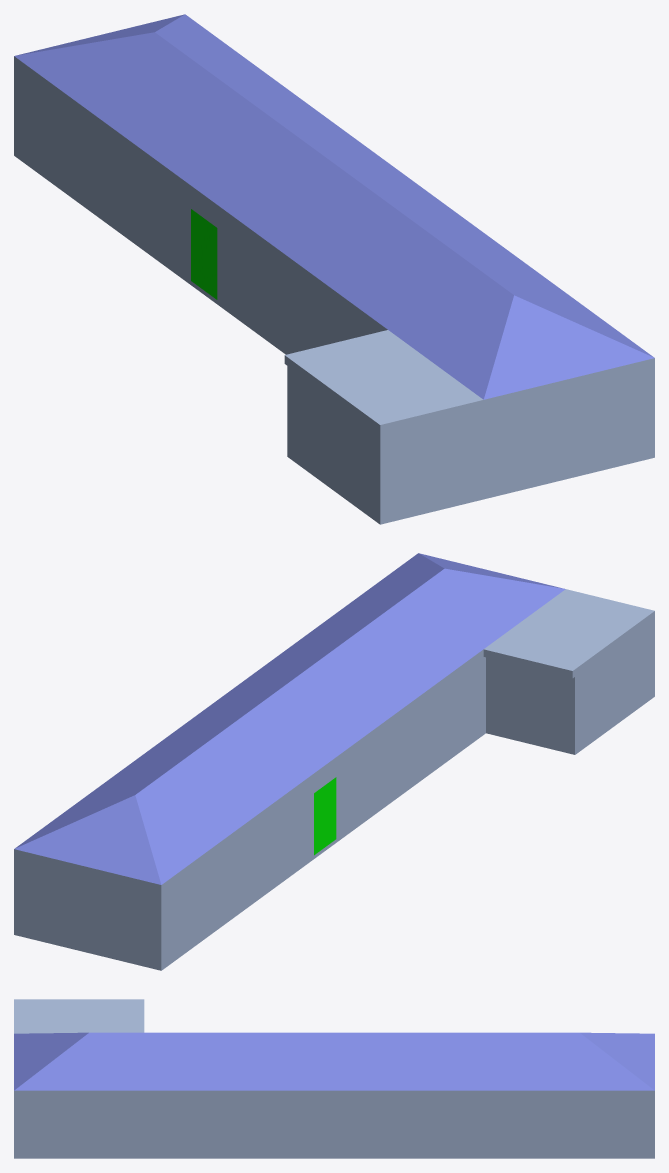
Rendered from Backwash_Pump_House.glb.
3 renders of one model, top to bottom at view 1: azimuth 30°, elevation 25°; view 2: azimuth 150°, elevation 25°; view 3: azimuth 270°, elevation 25°, orthographic. The views are drawn at different scales.
Parts seen in each view (by area): view 1: Roof, Floor1; view 2: Roof, Floor1; view 3: Roof, Floor1.
Boxes of the visible parts, x1,y1,x2,y2 form: Roof: (14, 14, 654, 433); Floor1: (14, 65, 654, 524); Roof: (14, 553, 654, 892); Floor1: (14, 618, 654, 970); Roof: (14, 999, 654, 1096); Floor1: (14, 1096, 654, 1158).
Size of the model in its own units: 13.28 by 6.6 by 39.3.
